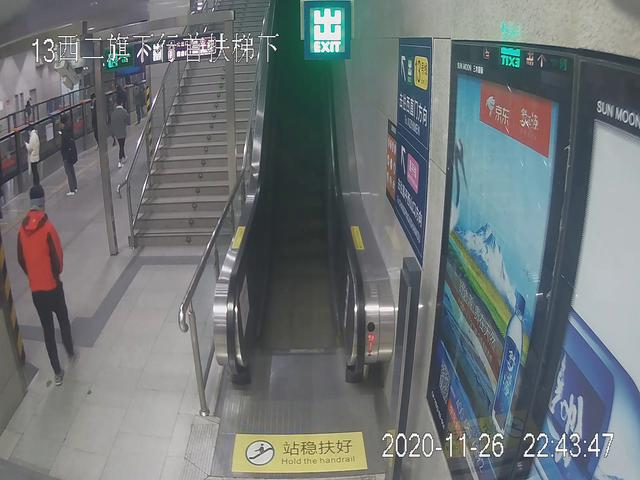person: (17, 182, 78, 383), (57, 115, 81, 197), (111, 94, 131, 171), (26, 121, 48, 190), (132, 80, 144, 122)
